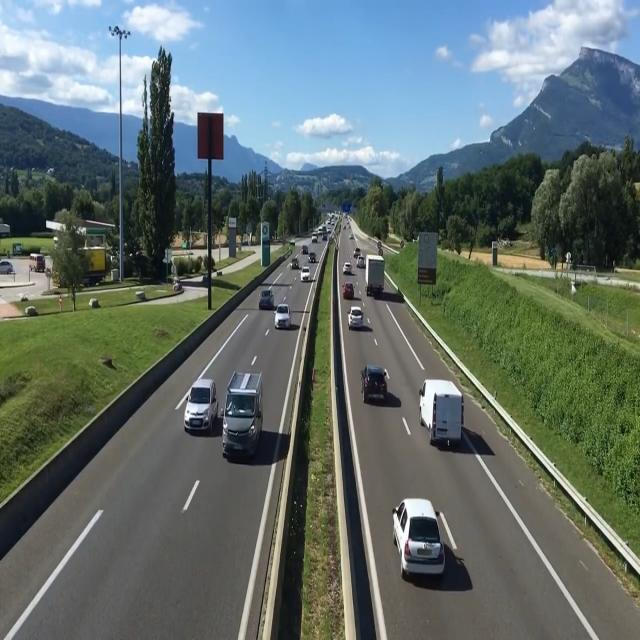car: (395, 498, 450, 588), (220, 364, 265, 469), (414, 375, 466, 452), (184, 375, 218, 437), (362, 363, 393, 408), (255, 283, 275, 317), (347, 304, 366, 336), (273, 304, 291, 333), (342, 275, 358, 300), (298, 266, 312, 286)
truck: (367, 258, 388, 300)
